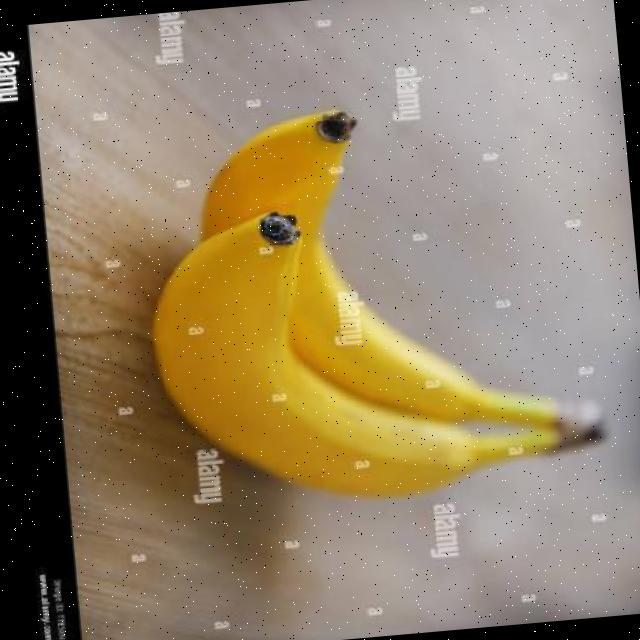banana: (199, 113, 562, 433), (150, 215, 534, 489)
